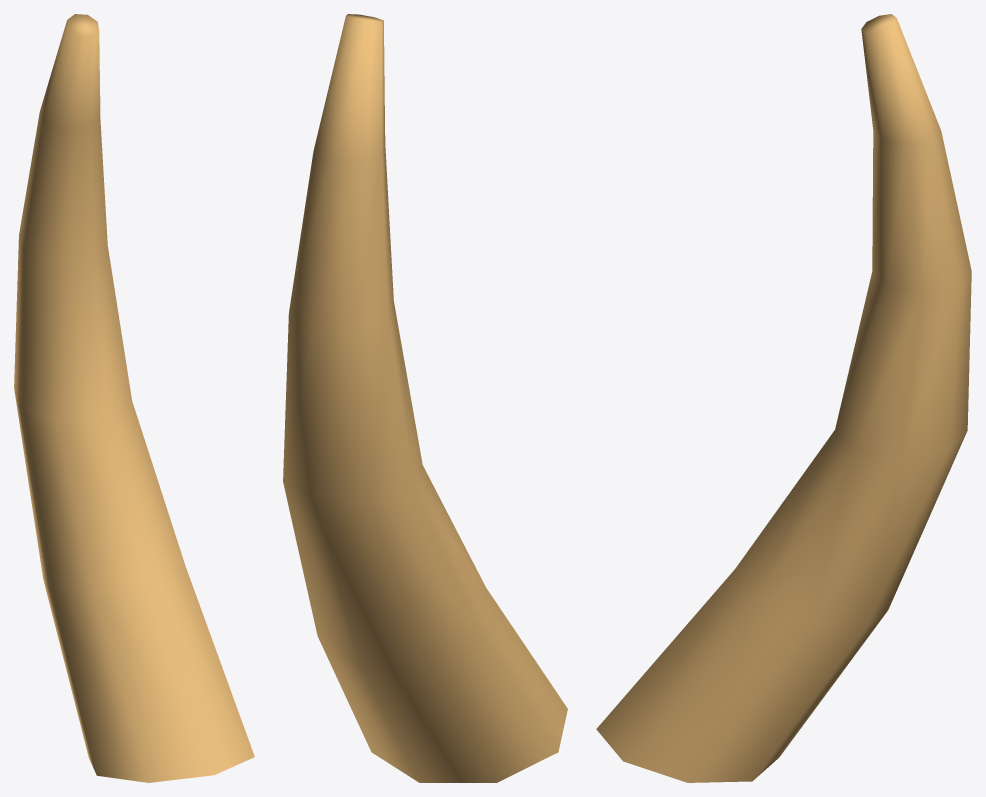
Rendered from Bones_02.fbx.
3 views of the same model, side by side, from view 1: azimuth 30°, elevation 25°; view 2: azimuth 150°, elevation 25°; view 3: azimuth 270°, elevation 25° (orthographic). The views are drawn at different scales.
Visible parts, largest first — view 1: Bones_02; view 2: Bones_02; view 3: Bones_02.
Part boxes in pixels (x1,y1,x2,y2): Bones_02: (14,14,254,782); Bones_02: (283,14,567,782); Bones_02: (596,14,971,782).
Size of the model in its own units: 31.93 by 139 by 64.12.
